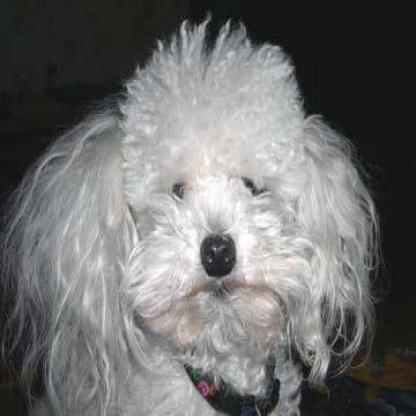miniature_poodle: (1, 14, 392, 413)
